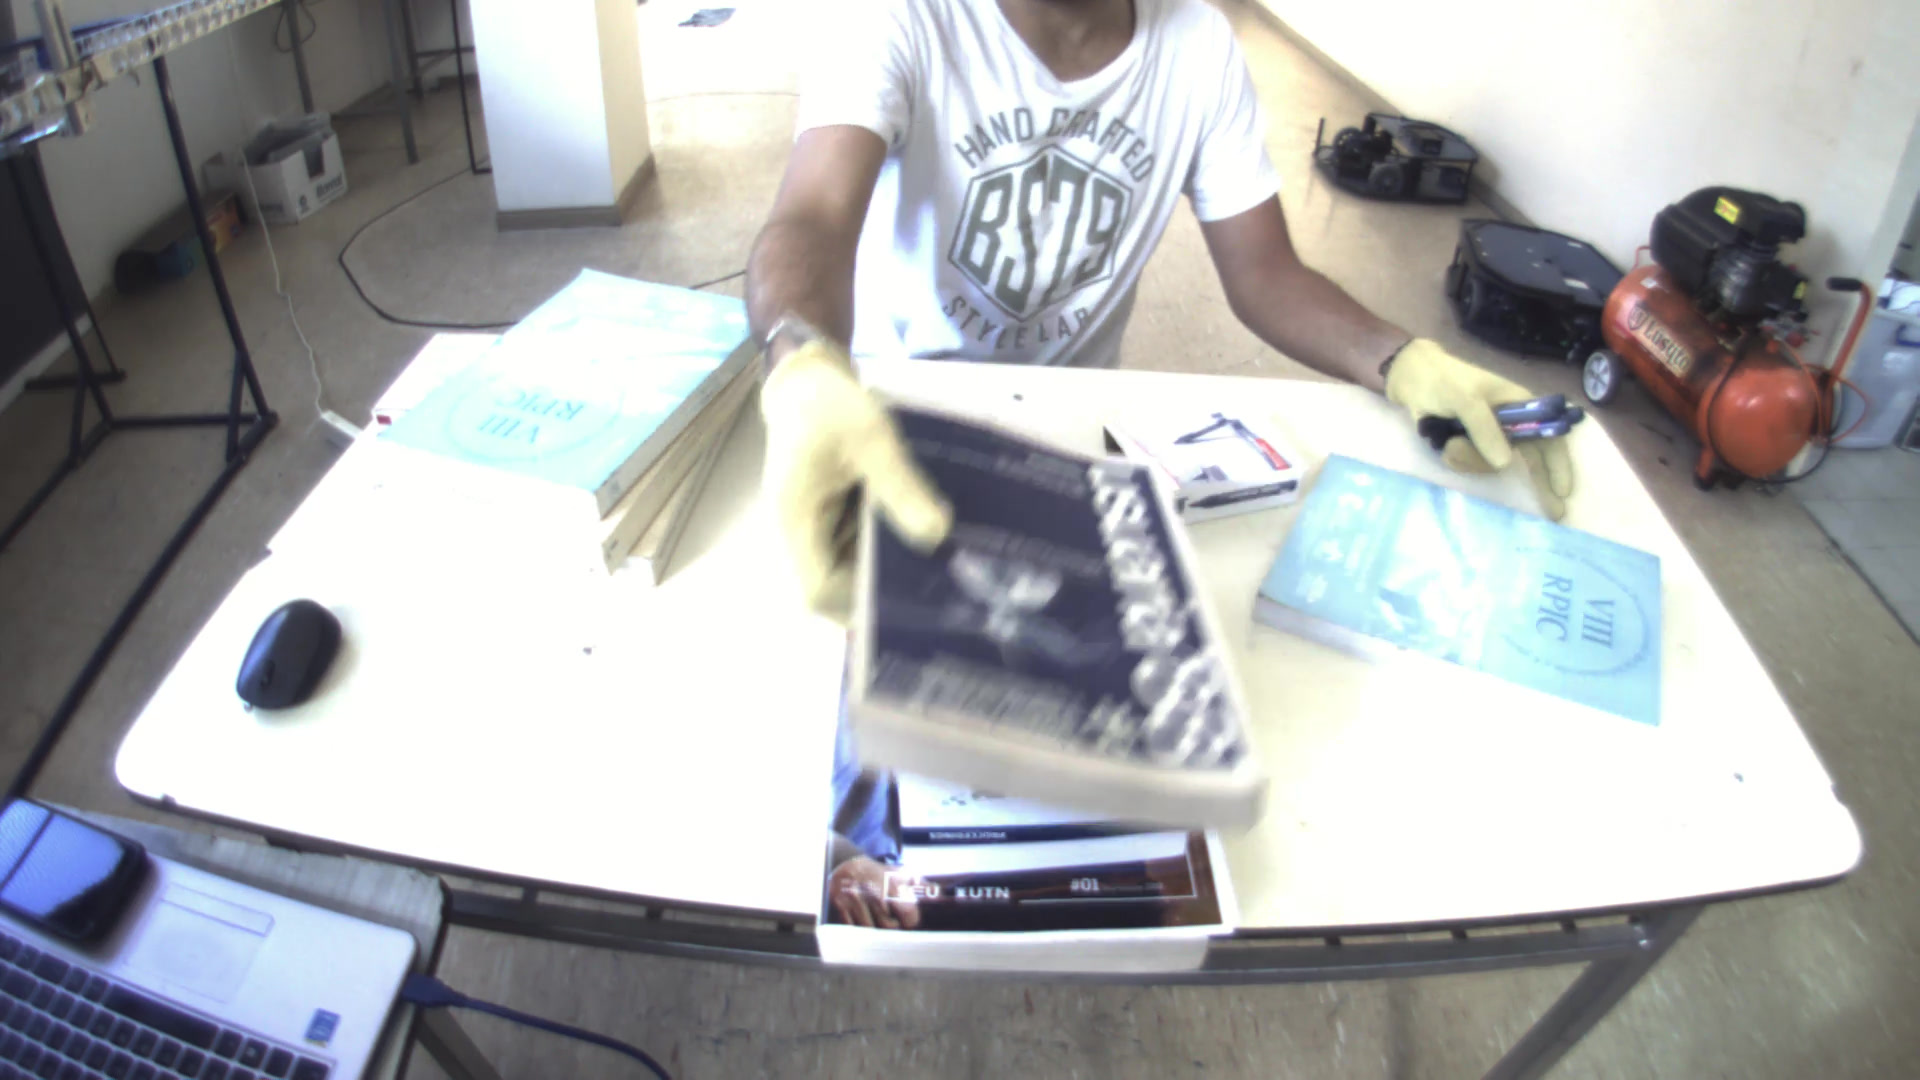hand: (748, 332, 957, 617), (1379, 334, 1581, 526)
